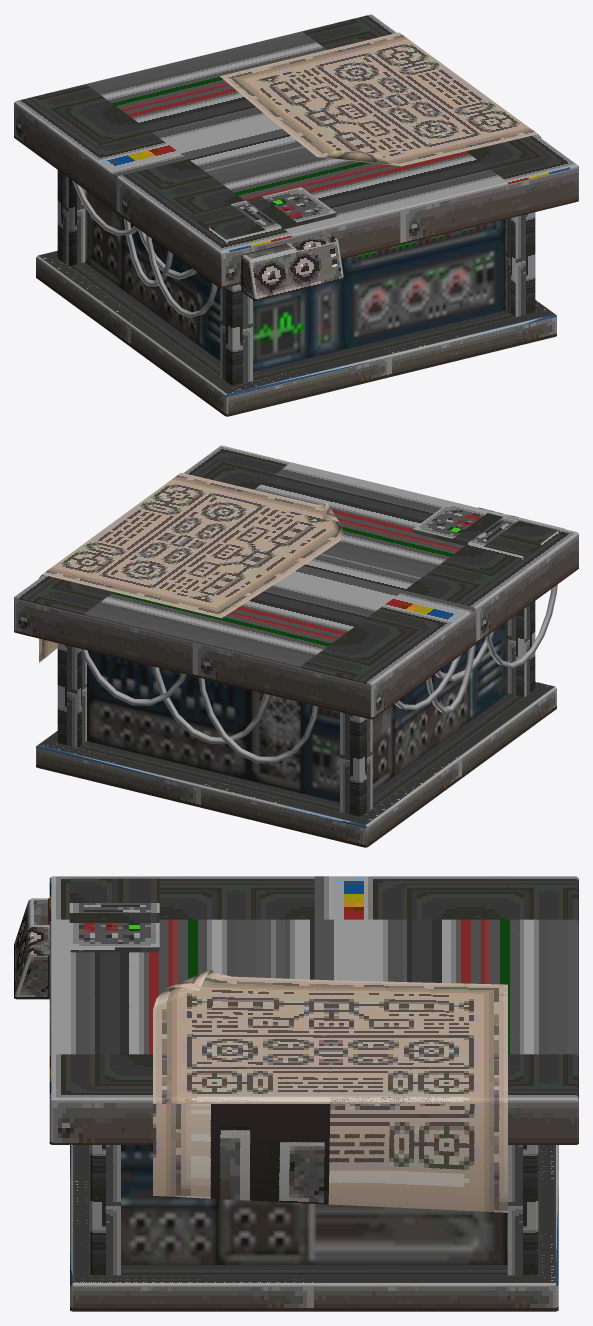
Rendered from int_mad_mekaA.dae.
The picture shows the model from 3 angles, top to bottom: view 1: azimuth 30°, elevation 25°; view 2: azimuth 150°, elevation 25°; view 3: azimuth 270°, elevation 25°; orthographic projection. The views are drawn at different scales.
Visible parts, largest first — view 1: int_mad_mekaA; view 2: int_mad_mekaA; view 3: int_mad_mekaA.
Boxes of the visible parts, x1,y1,x2,y2 form: int_mad_mekaA: [14, 14, 578, 416]; int_mad_mekaA: [14, 445, 578, 847]; int_mad_mekaA: [14, 876, 578, 1311].
Bounding box in the file's own units: 52.29 × 25.74 × 55.5.
Materials: 4 (4 with a texture image).
